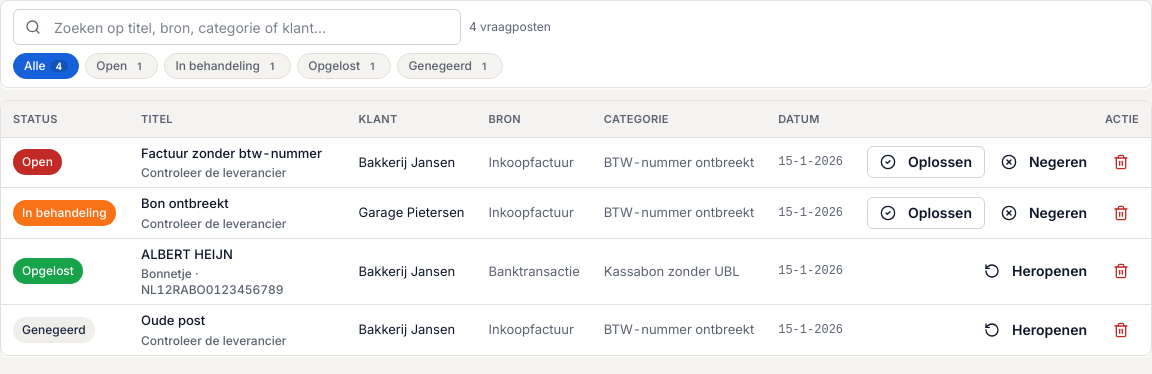
Test: Vraagposten overzicht › zoekt op titel
In the field named "Zoeken in vraagposten": (237, 27) [13,9,461,45], type "Bon ontbreekt"
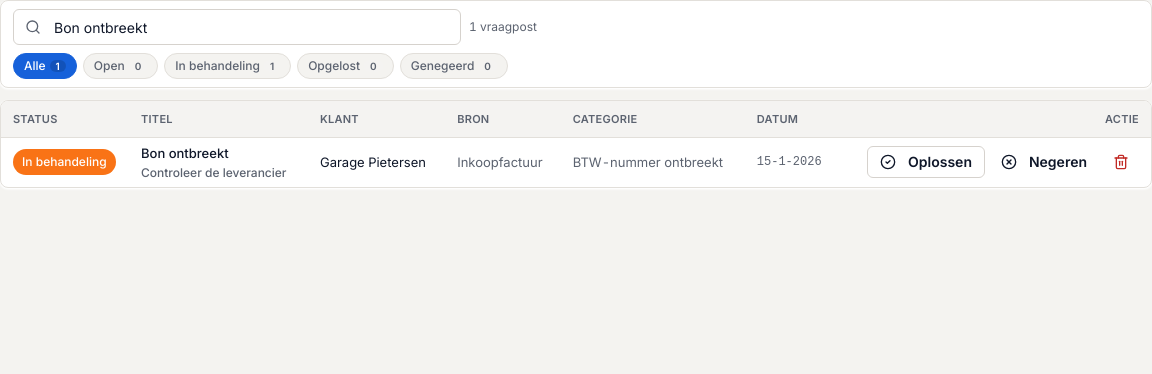
Result: the number of rows is 2 at [1,101,1151,137]; [1,137,1151,187]
